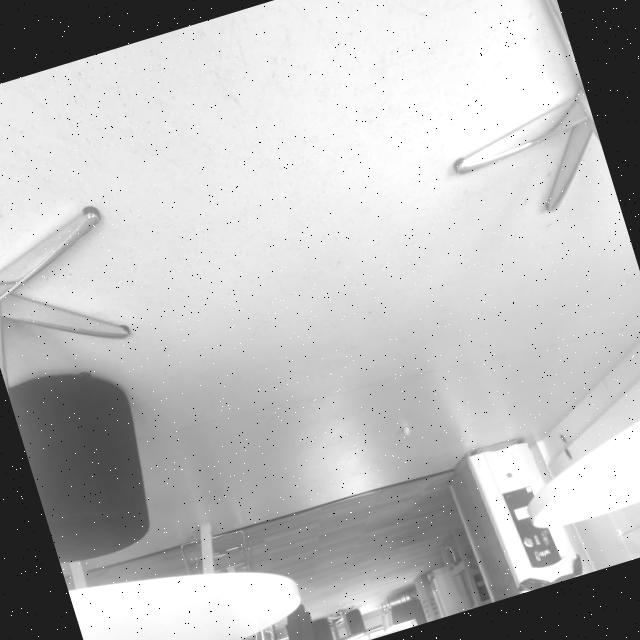ping-pong-ball: (400, 423, 413, 438)
